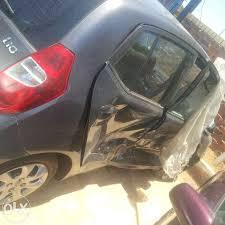doorouter-dent: (79, 87, 157, 170)
